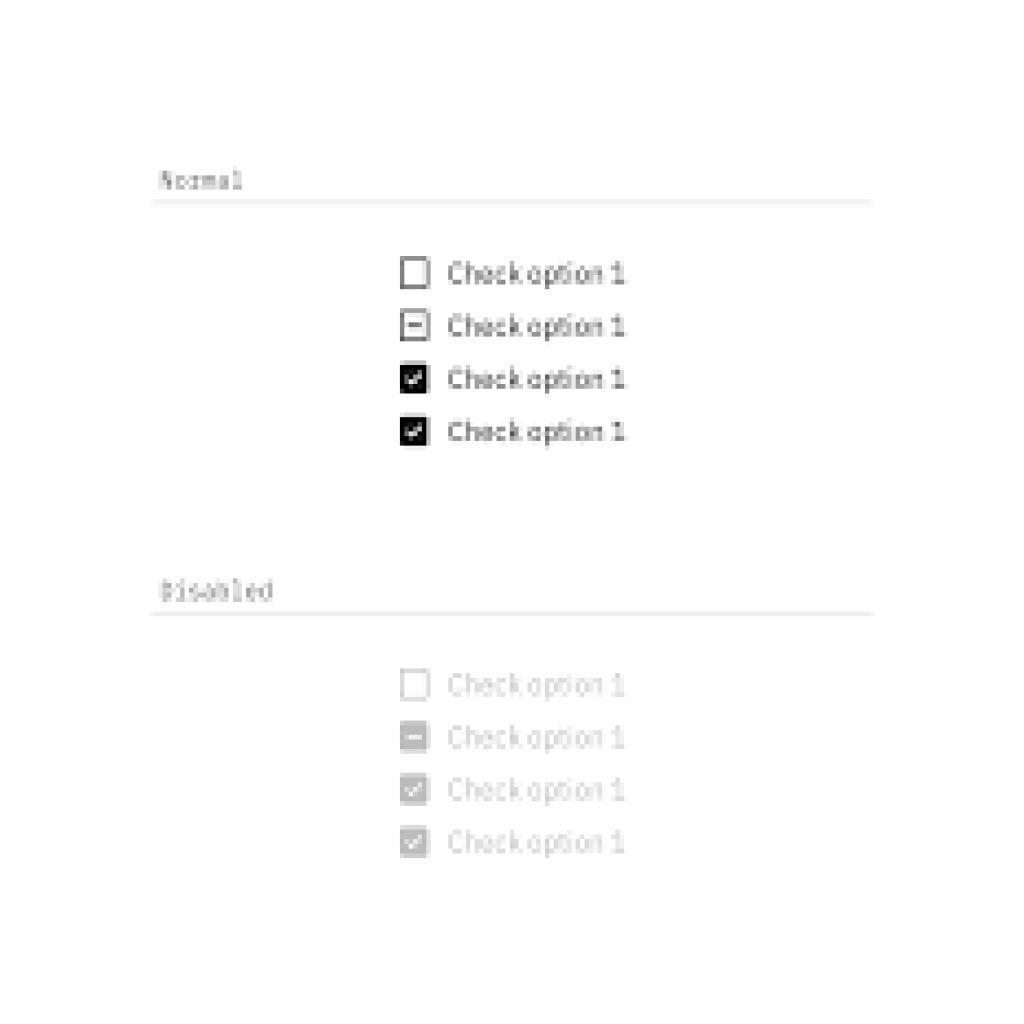checkbox: (399, 411, 431, 448), (399, 720, 432, 754), (401, 771, 431, 808), (400, 669, 432, 703), (399, 360, 431, 394), (400, 824, 432, 858), (400, 307, 431, 342), (399, 257, 432, 289)
label: (446, 416, 629, 450), (446, 363, 629, 395), (446, 669, 627, 701), (446, 259, 628, 287), (447, 724, 627, 752), (446, 828, 626, 856), (447, 776, 626, 804), (446, 311, 629, 337), (157, 576, 275, 604), (158, 168, 242, 191)
